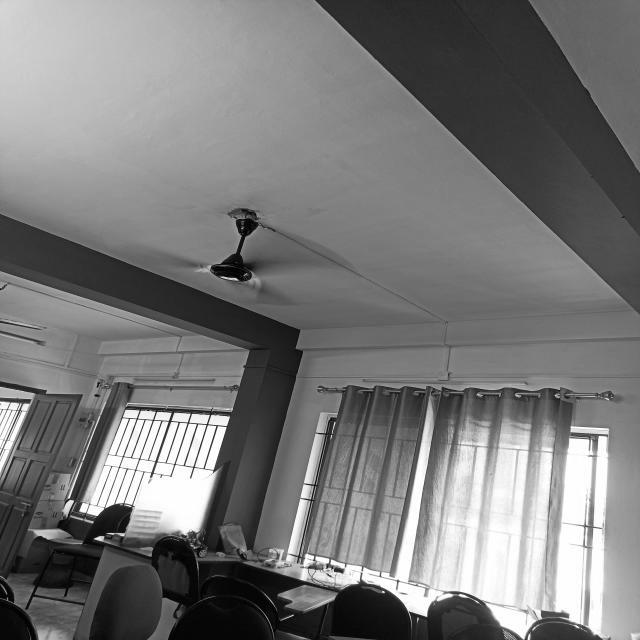fan: (167, 208, 324, 303)
